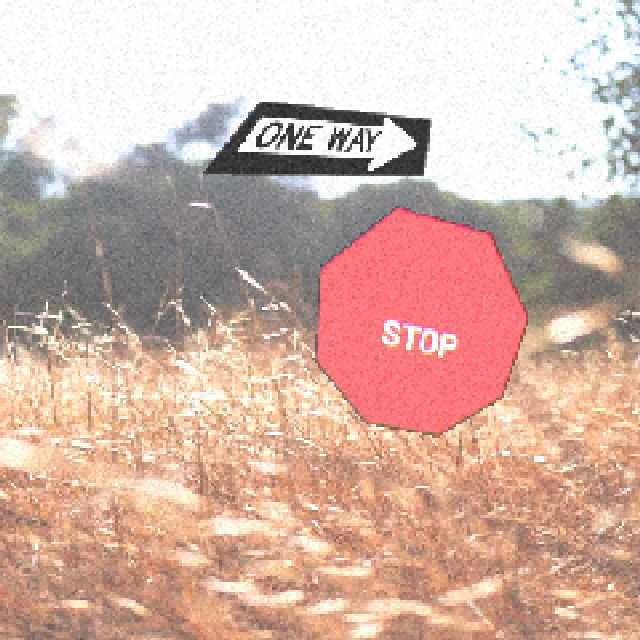ONE_WAY_ right: (199, 98, 430, 175)
STOP: (312, 204, 528, 435)
